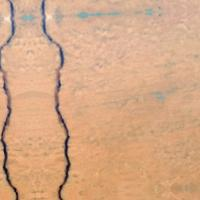crack: (0, 0, 80, 199)
